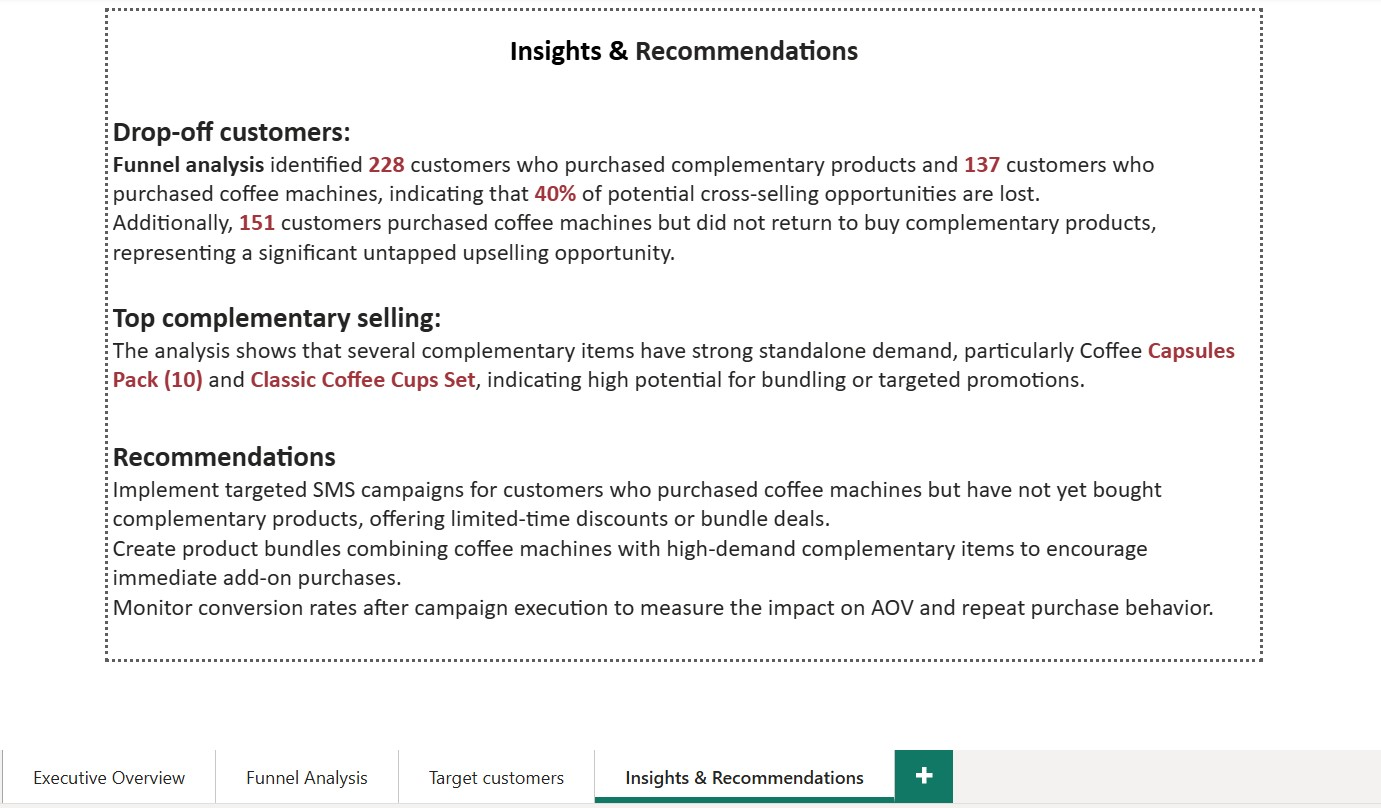

Layout of this report page (visuals, bound fields, positions):
{"tool":"powerbi","page":{"name":"Insights & Recommendations","canvas":[1280,720],"ordinal":3},"visuals":[{"type":"textbox","box":[0,107.5,1267.5,207.5],"z":0},{"type":"textbox","box":[0,315,1267.5,137.5],"z":1000},{"type":"textbox","box":[0,470,1280,250],"z":2000},{"type":"textbox","box":[380,17.5,520,56.2],"z":3000}]}

Visuals, with their boxes on the page's 1280x720 design canvas (x1, y1, x2, y2). These are canvas units, not pixel positions in the 1381x808 screenshot, which may show the page scaled, cropped or inside an application window:
textbox: 0 108 1268 315
textbox: 0 315 1268 452
textbox: 0 470 1280 720
textbox: 380 18 900 74
